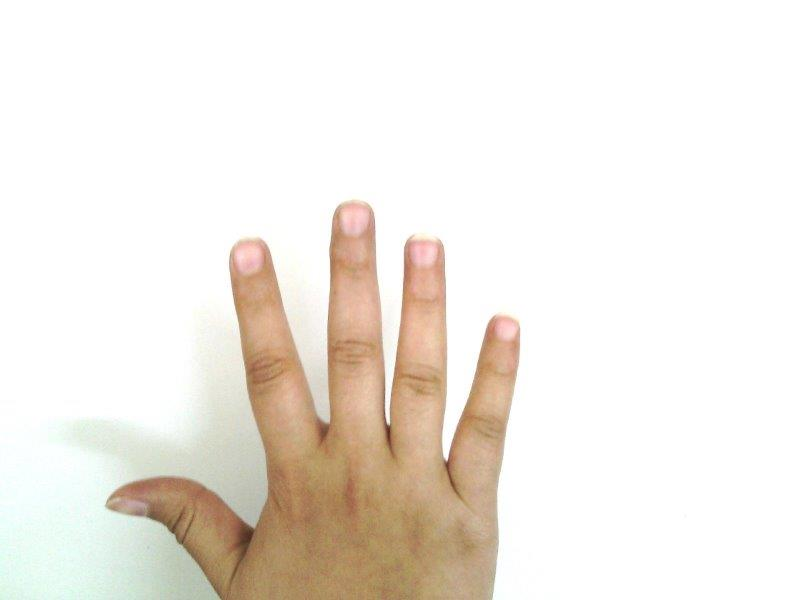hand: (108, 200, 520, 600)
